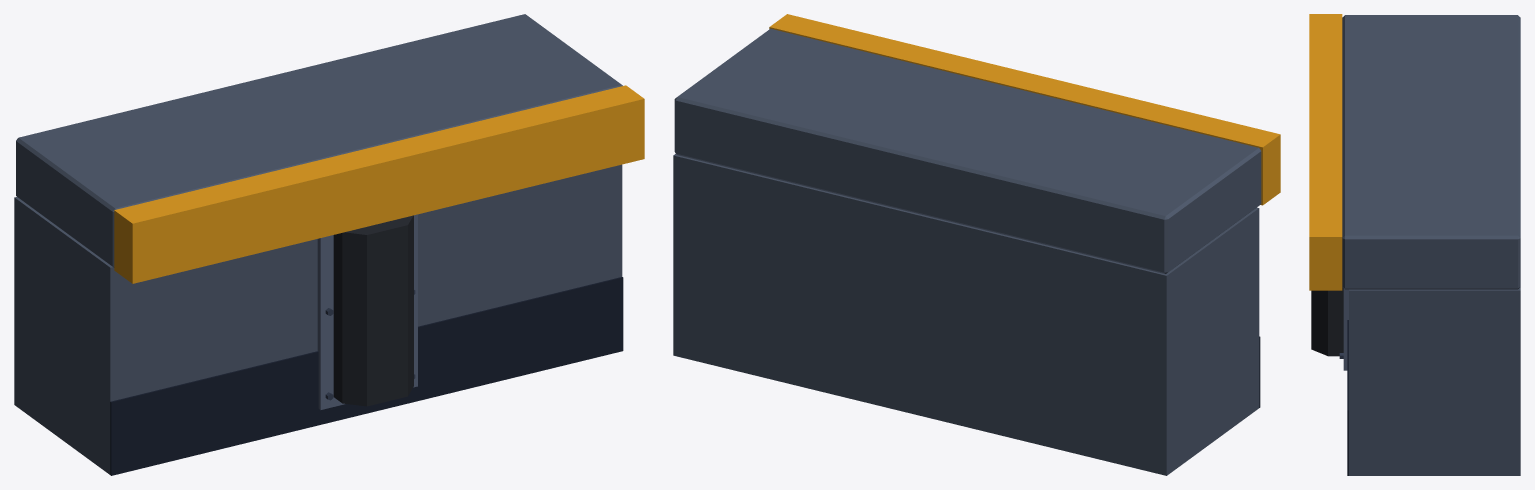
Rendered from port_quay_edge.glb.
3 views of the same model, side by side, from view 1: azimuth 30°, elevation 25°; view 2: azimuth 150°, elevation 25°; view 3: azimuth 270°, elevation 25° (orthographic). The views are drawn at different scales.
Visible parts, largest first — view 1: coping, hazard_edge, waterline, fender, fender_plate; view 2: coping, hazard_edge; view 3: coping, hazard_edge, fender, fender_plate, waterline.
Part boxes in pixels (x1,y1,x2,y2): coping: (14, 14, 622, 474); hazard_edge: (114, 85, 644, 283); waterline: (110, 277, 623, 475); fender: (333, 215, 413, 406); fender_plate: (317, 214, 417, 409); coping: (673, 28, 1261, 475); hazard_edge: (769, 14, 1280, 205); coping: (1342, 15, 1520, 475); hazard_edge: (1309, 14, 1342, 290); fender: (1311, 287, 1343, 356); fender_plate: (1343, 288, 1348, 370); waterline: (1347, 320, 1348, 475).
Size of the model in its own units: 4 by 2 by 1.6.
